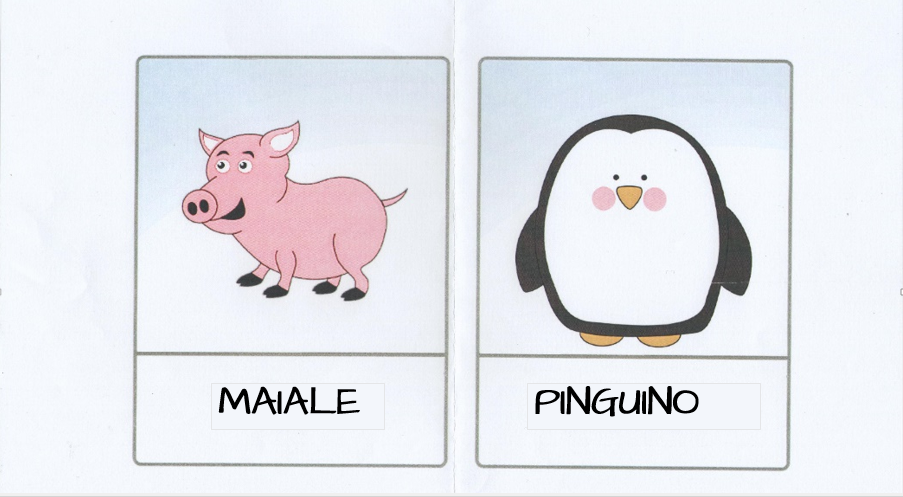maiale: (150, 73, 440, 448)
pinguino: (489, 79, 777, 448)
